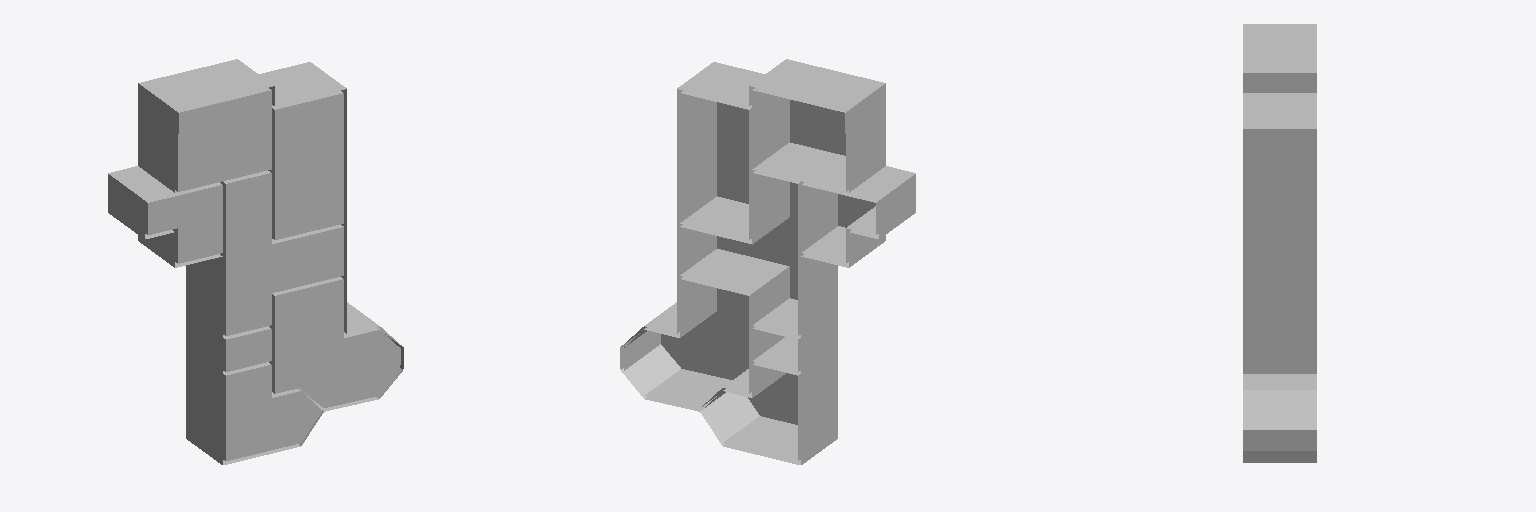
Rendered from Floor1_Beeg (2).obj.
The picture shows the model from 3 angles: view 1: azimuth 30°, elevation 25°; view 2: azimuth 150°, elevation 25°; view 3: azimuth 270°, elevation 25°; orthographic projection.
Parts seen in each view (by area): view 1: Floor1_Beeg_(2); view 2: Floor1_Beeg_(2); view 3: Floor1_Beeg_(2).
Boxes of the visible parts, box(x1,y1,x2,y2) form: Floor1_Beeg_(2): box(108, 59, 403, 464); Floor1_Beeg_(2): box(620, 59, 915, 464); Floor1_Beeg_(2): box(1243, 24, 1316, 462).
Bounding box in the file's own units: 161 × 218 × 40.